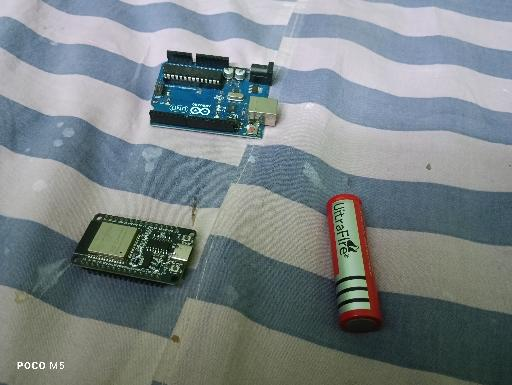Arduino: (149, 49, 279, 141)
Battery: (327, 194, 383, 335)
Esp32: (70, 213, 197, 290)
